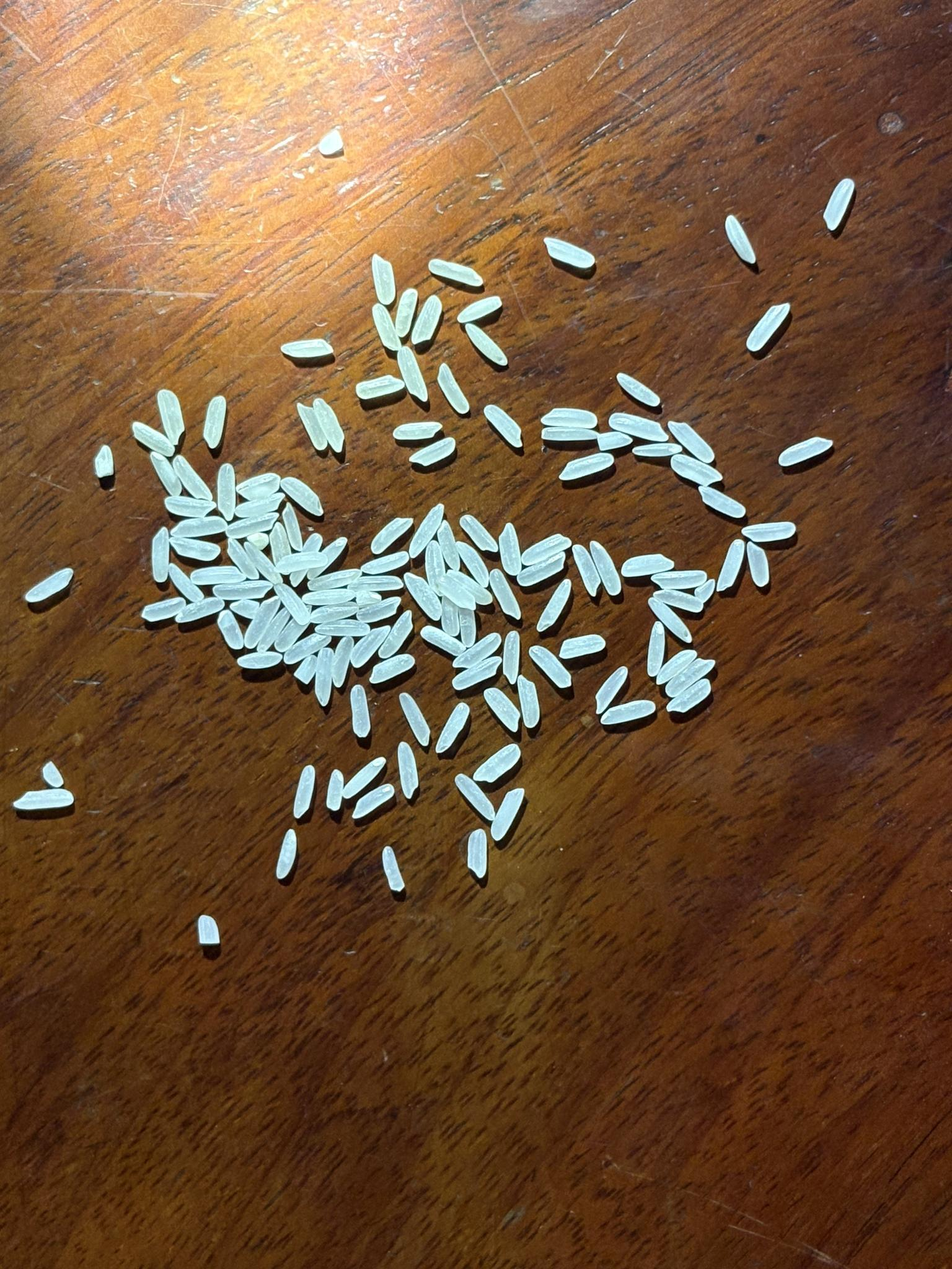Rice-th-y-nh: (745, 302, 791, 353), (667, 419, 716, 465), (310, 397, 349, 453), (407, 503, 446, 558), (306, 534, 349, 583), (536, 577, 574, 632), (664, 658, 716, 698), (647, 595, 691, 642), (242, 596, 281, 648), (465, 323, 509, 368), (455, 773, 496, 821), (608, 410, 667, 443), (669, 452, 723, 488), (529, 645, 573, 689), (589, 540, 623, 596), (342, 757, 386, 800), (24, 567, 75, 604), (404, 573, 443, 621), (396, 347, 430, 402), (778, 435, 834, 468), (475, 744, 521, 784), (173, 455, 213, 501), (483, 403, 523, 449), (243, 542, 283, 588), (557, 450, 614, 482), (491, 788, 525, 841), (368, 516, 414, 555), (435, 702, 470, 753), (436, 363, 470, 415), (453, 633, 502, 669), (280, 476, 324, 516), (489, 568, 522, 621), (823, 178, 856, 231), (351, 625, 390, 669), (544, 237, 596, 270), (697, 485, 746, 520), (541, 420, 598, 450), (483, 686, 520, 732), (570, 543, 601, 597), (380, 610, 414, 659), (666, 678, 712, 714), (615, 371, 661, 407), (455, 540, 491, 586), (517, 554, 567, 587), (428, 257, 483, 287), (593, 667, 628, 714), (716, 538, 747, 591), (274, 582, 311, 626), (306, 565, 362, 594), (350, 784, 395, 820), (156, 389, 186, 443), (411, 295, 443, 345), (655, 648, 698, 685), (131, 421, 175, 457), (399, 694, 430, 745), (256, 607, 291, 652), (459, 513, 498, 553), (212, 577, 272, 603), (283, 632, 330, 665), (723, 216, 756, 263), (742, 541, 775, 588), (452, 659, 502, 690), (522, 533, 572, 564), (599, 699, 656, 726), (651, 566, 708, 593), (434, 520, 464, 571), (213, 463, 240, 519), (234, 491, 284, 521), (297, 403, 328, 451), (409, 436, 457, 467), (371, 304, 402, 352), (149, 452, 182, 497), (172, 513, 227, 540), (226, 511, 279, 539), (456, 294, 503, 325), (652, 587, 704, 615), (169, 535, 221, 563), (370, 254, 398, 305), (168, 564, 204, 603), (439, 573, 478, 609), (496, 524, 523, 576), (420, 625, 465, 656), (175, 596, 224, 624), (202, 395, 227, 449), (743, 519, 797, 544), (226, 539, 258, 581), (369, 654, 415, 683), (276, 548, 327, 574), (621, 553, 674, 578), (14, 788, 74, 810), (313, 649, 335, 706), (360, 551, 410, 576), (392, 418, 442, 443), (331, 636, 355, 688), (302, 586, 356, 609), (149, 527, 172, 581), (315, 616, 369, 639), (393, 288, 418, 337), (356, 374, 403, 400), (293, 765, 316, 818), (545, 406, 598, 429), (397, 742, 419, 797), (310, 601, 358, 626), (274, 620, 310, 653), (357, 597, 401, 624), (164, 495, 215, 518), (517, 676, 540, 727), (350, 685, 372, 738), (281, 503, 305, 551), (275, 829, 298, 879), (217, 609, 245, 650), (141, 596, 185, 622), (352, 572, 404, 594), (646, 623, 667, 677), (381, 846, 405, 892), (559, 634, 605, 658), (423, 541, 448, 585), (502, 630, 522, 683), (267, 524, 292, 566), (192, 565, 243, 585), (239, 477, 281, 501), (467, 830, 487, 876), (237, 650, 282, 670), (633, 441, 682, 459), (440, 596, 461, 637), (93, 445, 117, 478), (326, 770, 345, 810), (596, 430, 632, 451), (293, 654, 318, 684), (317, 128, 343, 155), (197, 916, 220, 945), (230, 598, 260, 620), (41, 761, 64, 789), (694, 578, 717, 604), (301, 532, 323, 555), (355, 589, 382, 607), (247, 531, 271, 551), (289, 569, 308, 588)
